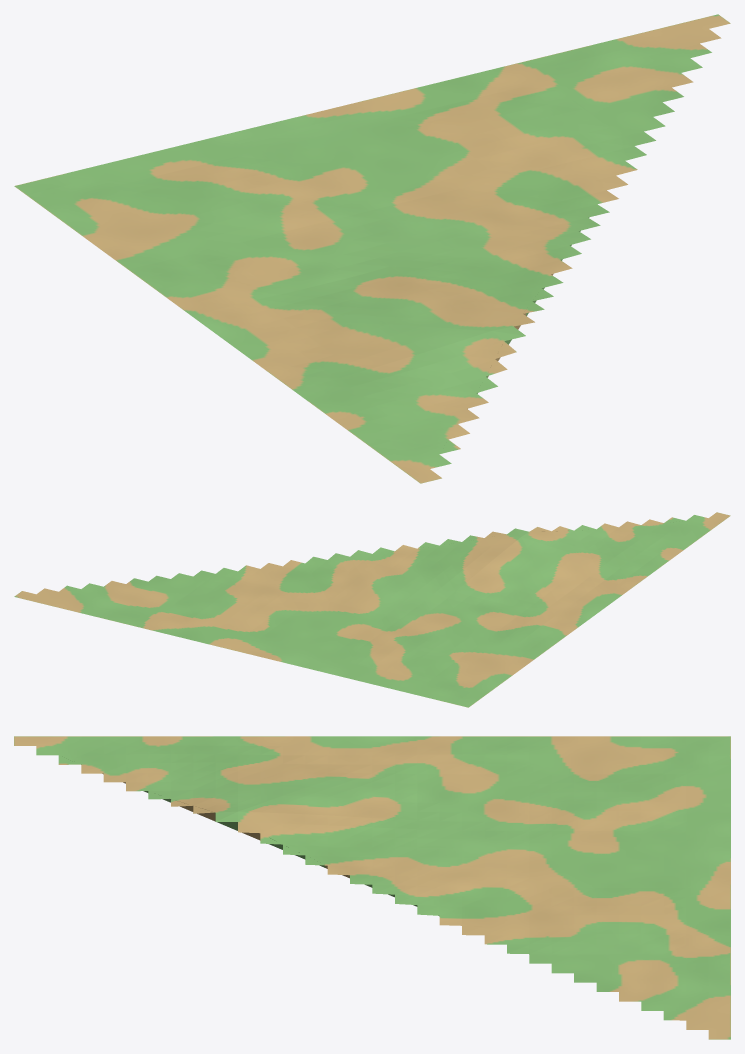
File: Grass_Flat_04_SW.obj
3 renders of one model, top to bottom at view 1: azimuth 30°, elevation 25°; view 2: azimuth 150°, elevation 25°; view 3: azimuth 270°, elevation 25°, orthographic. The views are drawn at different scales.
Bounding box in the file's own units: 10 × 0.1563 × 10.
Materials: 1 (1 with a texture image).
